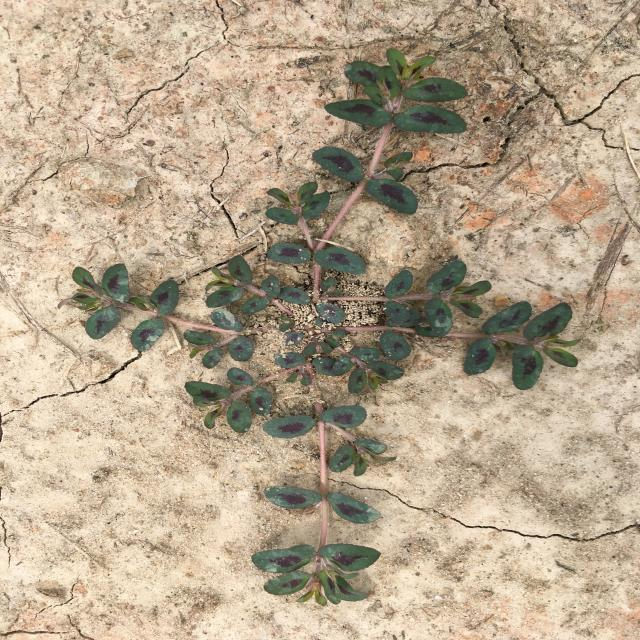SpottedSpurge: (58, 48, 582, 606)
